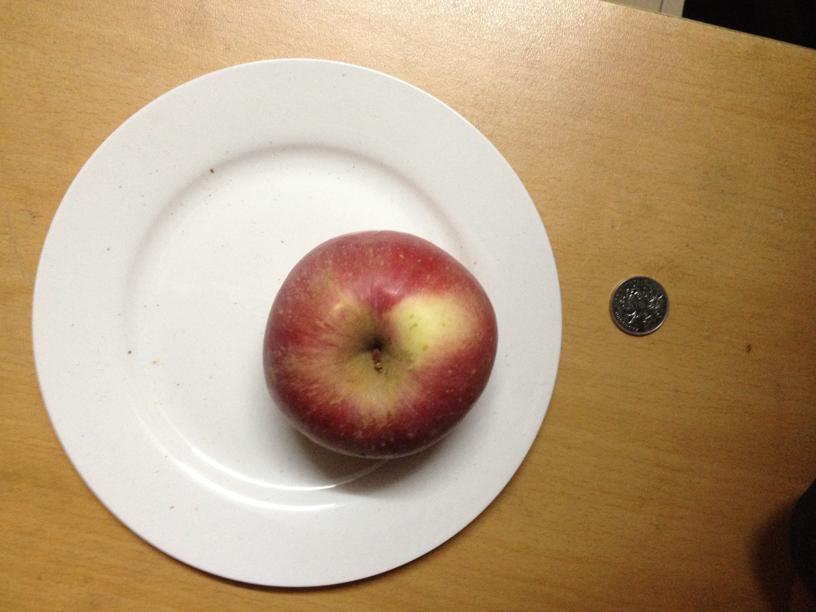apple: (257, 228, 499, 459)
coin: (608, 276, 669, 335)
